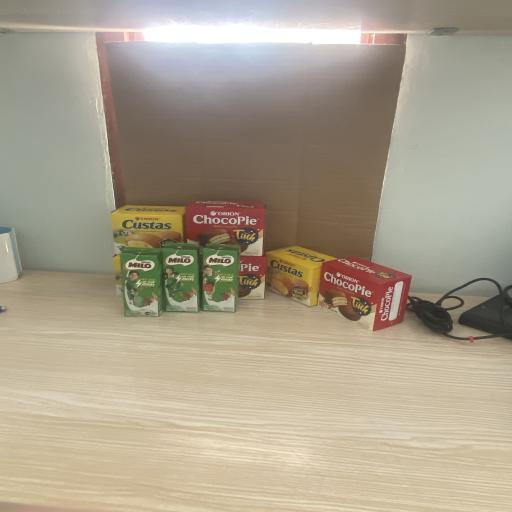chocopie: (317, 256, 412, 332), (185, 199, 266, 258), (238, 256, 267, 300)
custas: (265, 245, 337, 307), (111, 204, 185, 257)
milo: (119, 247, 163, 318), (162, 240, 201, 312), (202, 243, 241, 313)
